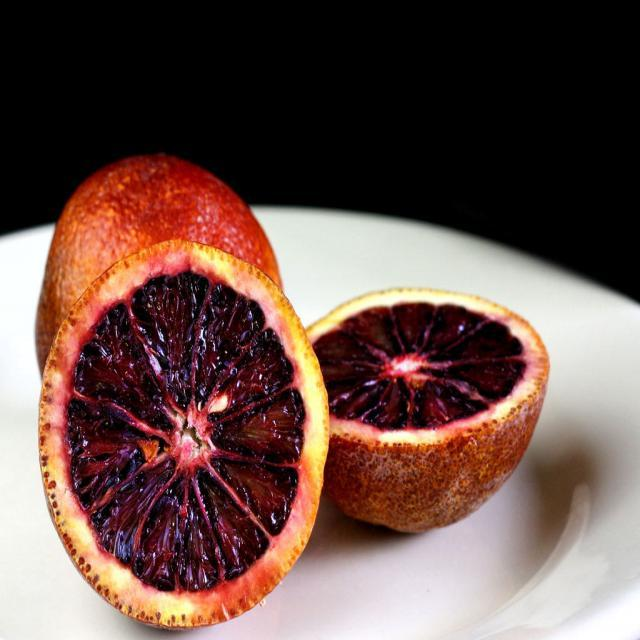Orange: (37, 237, 337, 639), (303, 267, 553, 551), (37, 149, 279, 367)
